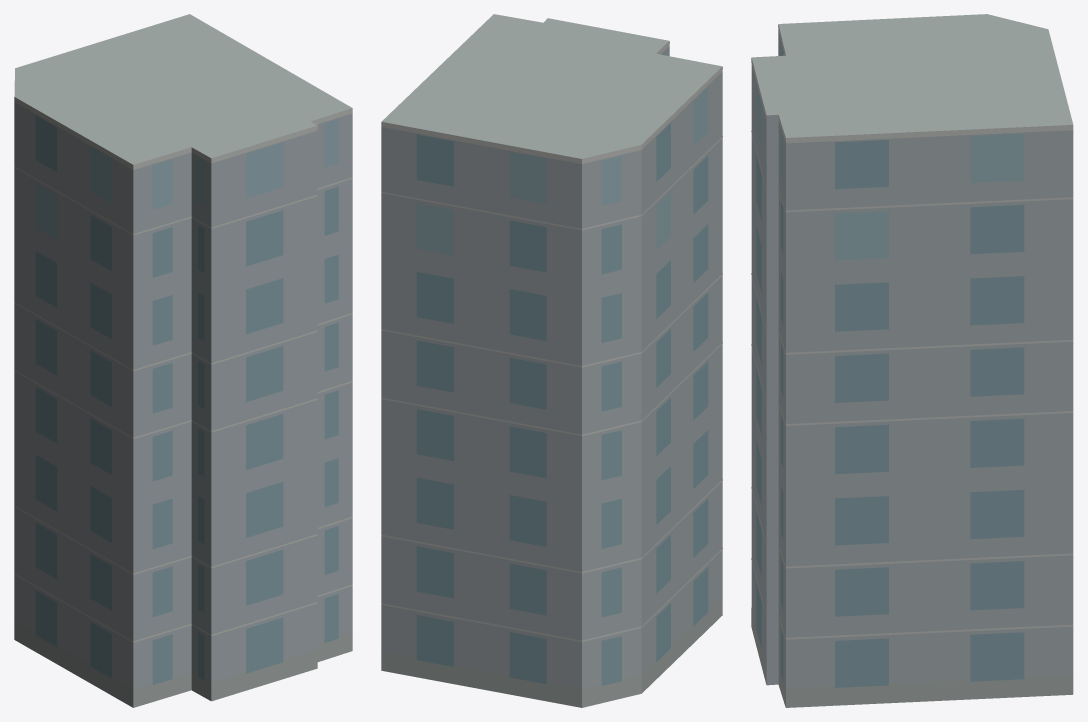
File: survey-upis-32928299.glb
3 renders of one model, left to right at view 1: azimuth 30°, elevation 25°; view 2: azimuth 150°, elevation 25°; view 3: azimuth 270°, elevation 25°, orthographic. The views are drawn at different scales.
Parts seen in each view (by area): view 1: survey-upis-32928299.tmp; view 2: survey-upis-32928299.tmp; view 3: survey-upis-32928299.tmp.
Boxes of the visible parts, box(x1,y1,x2,y2) form: survey-upis-32928299.tmp: box(14, 14, 352, 707); survey-upis-32928299.tmp: box(381, 14, 722, 707); survey-upis-32928299.tmp: box(751, 14, 1073, 707).
Size of the model in its own units: 12.02 by 25.7 by 13.18.
